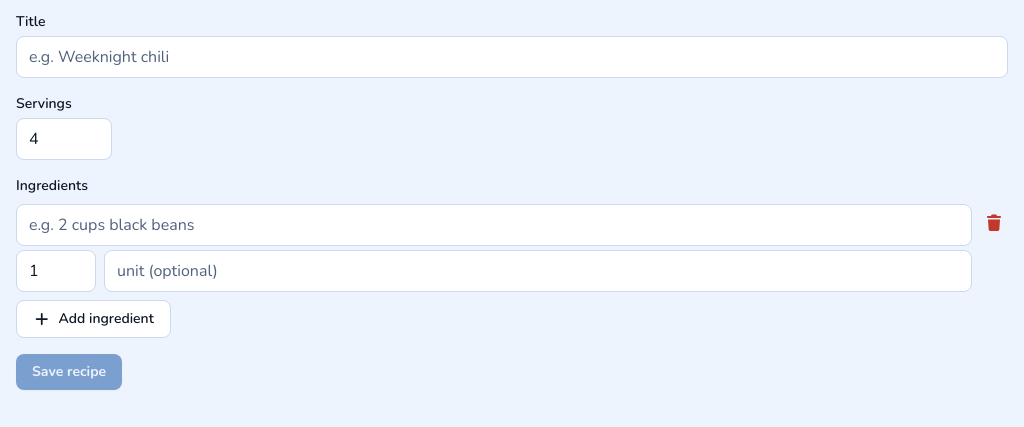
Test: RecipeForm › disables save when servings is below 1
The width and height of the screenshot is (1024, 427).
Type "Chili" into the field labelled "Title" at (512,57), box [16, 36, 1008, 78]
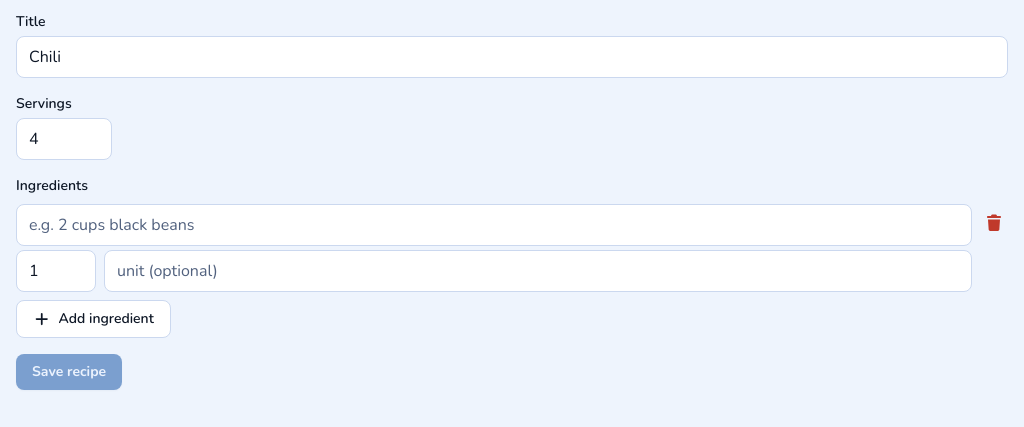
Type "Beans" into the field named "Ingredient 1" at (494,225), box [16, 204, 972, 246]
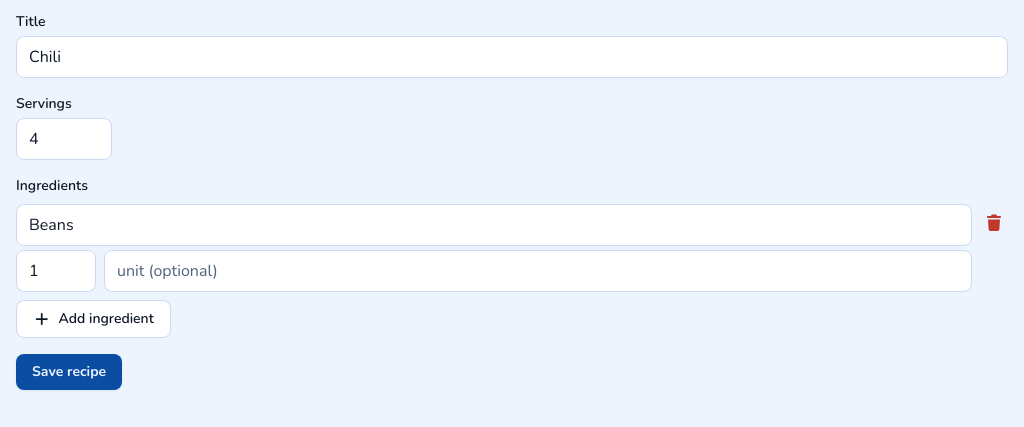
Replace the text in the number field labelled "Servings" with "0" at (64,139), box [16, 118, 112, 160]
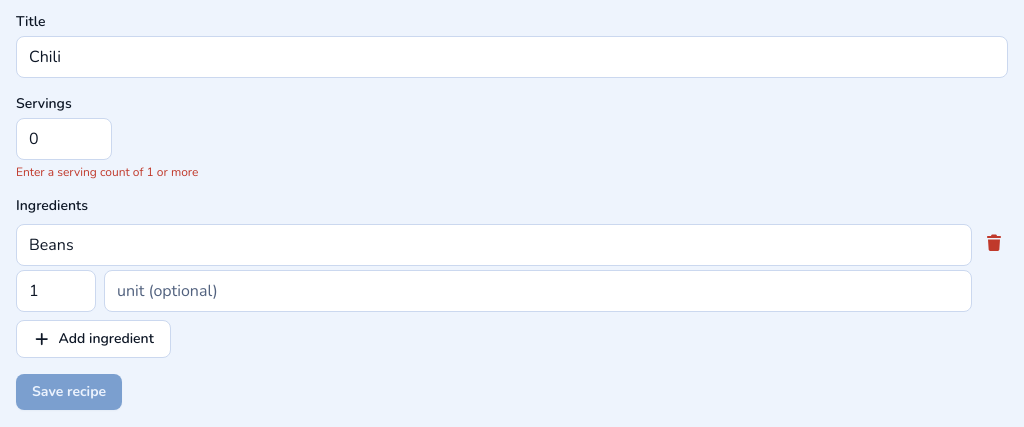
Check: the button "Save recipe" is disabled, box [16, 374, 122, 410]
Check: the text "Enter a serving count of 1 or more" is shown, box [16, 164, 198, 180]
